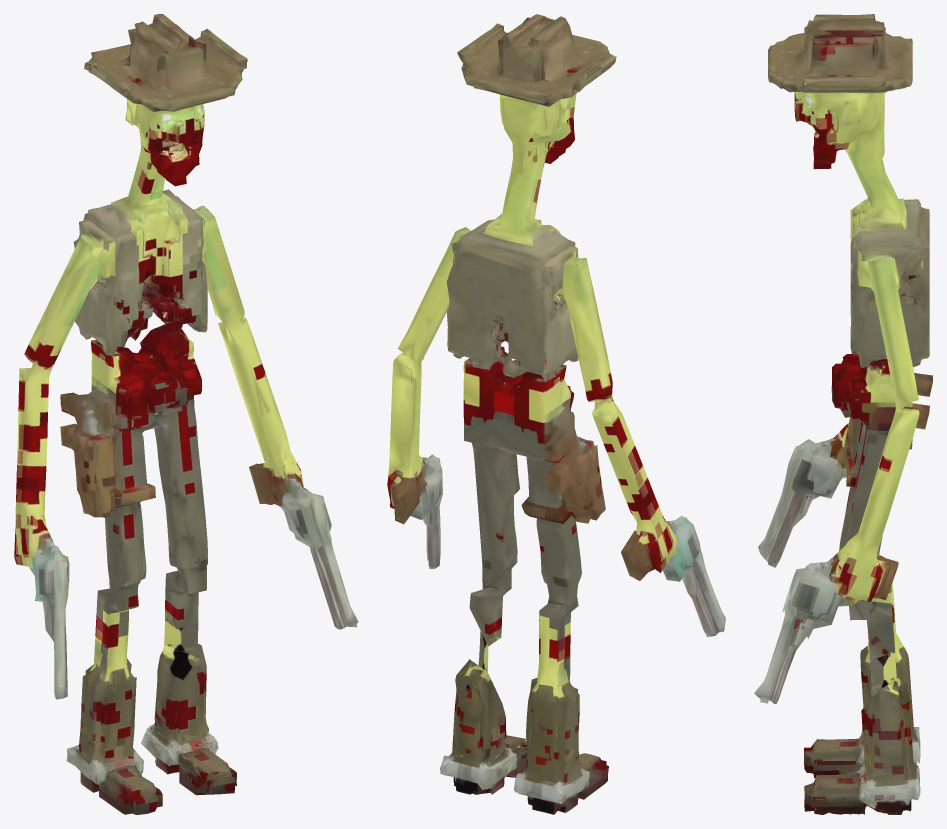
File: gunslinger.12k.glb
3 views of the same model, side by side, from view 1: azimuth 30°, elevation 25°; view 2: azimuth 150°, elevation 25°; view 3: azimuth 270°, elevation 25° (orthographic).
Parts seen in each view (by area): view 1: Mesh0; view 2: Mesh0; view 3: Mesh0.
Part boxes in pixels (<box>): Mesh0: <box>14,14,358,814</box>; Mesh0: <box>387,14,725,814</box>; Mesh0: <box>754,14,932,814</box>.
Bounding box in the file's own units: 0.781 × 1.9 × 0.4021.
1 material, 1 textured.
